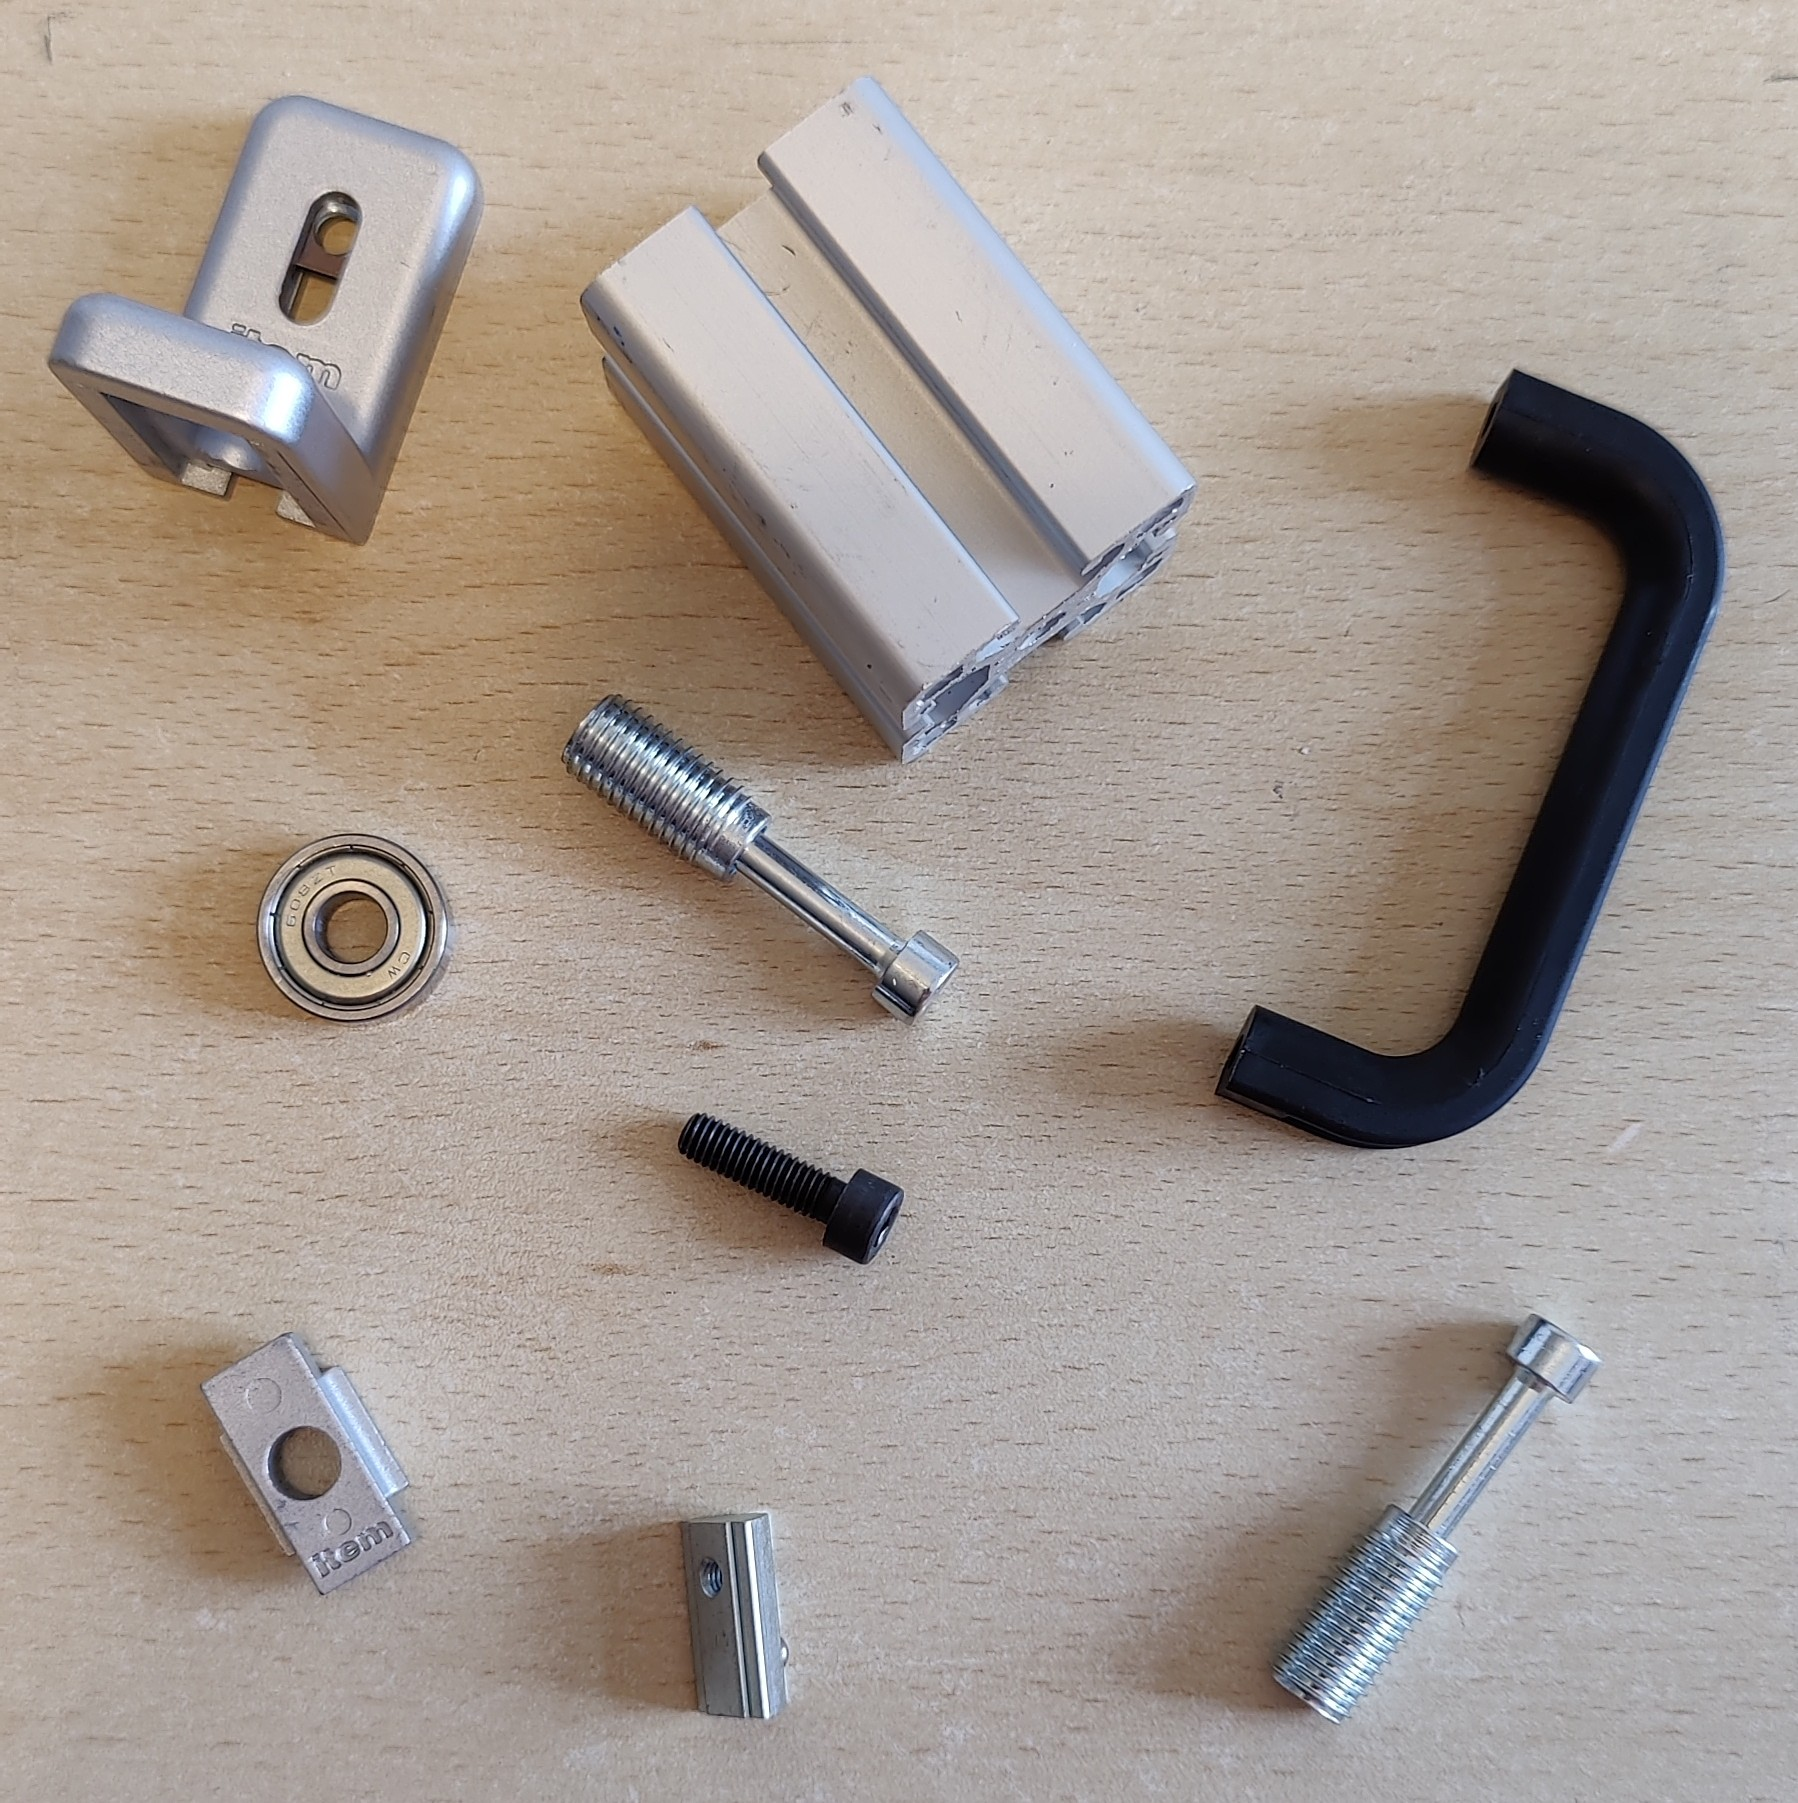Aluminium Extension: (576, 72, 1199, 769)
Ball Bearing: (250, 832, 458, 1029)
Multiwinkel: (46, 91, 486, 548)
Pull Handle: (1210, 366, 1727, 1153)
Shoulder Socket Head Cap Screw: (1268, 1309, 1609, 1729), (555, 688, 962, 1027)
Socket Head Cap Screw: (673, 1111, 906, 1268)
T Nut Square: (193, 1325, 422, 1597)
T Spring Nut: (675, 1508, 790, 1724)
